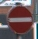No entry: (6, 5, 32, 34)
